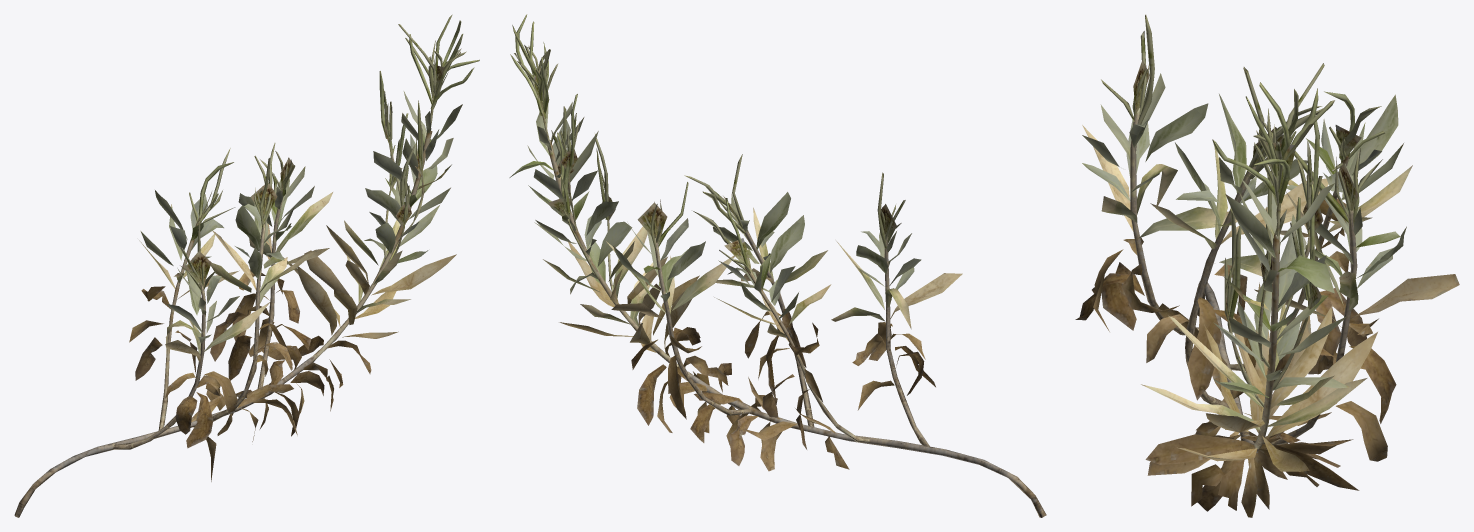
The model's file is SM_Foliage_06.fbx.
3 views of the same model, side by side, from view 1: azimuth 30°, elevation 25°; view 2: azimuth 150°, elevation 25°; view 3: azimuth 270°, elevation 25° (orthographic). The views are drawn at different scales.
Parts seen in each view (by area): view 1: SM_Foliage_06_LOD0; view 2: SM_Foliage_06_LOD0; view 3: SM_Foliage_06_LOD0.
Boxes of the visible parts, bbox=[...] form: SM_Foliage_06_LOD0: bbox=[14, 14, 479, 517]; SM_Foliage_06_LOD0: bbox=[509, 14, 1046, 517]; SM_Foliage_06_LOD0: bbox=[1075, 14, 1459, 517].
Size of the model in its own units: 83.72 by 36.18 by 62.53.
1 material, 1 textured.
